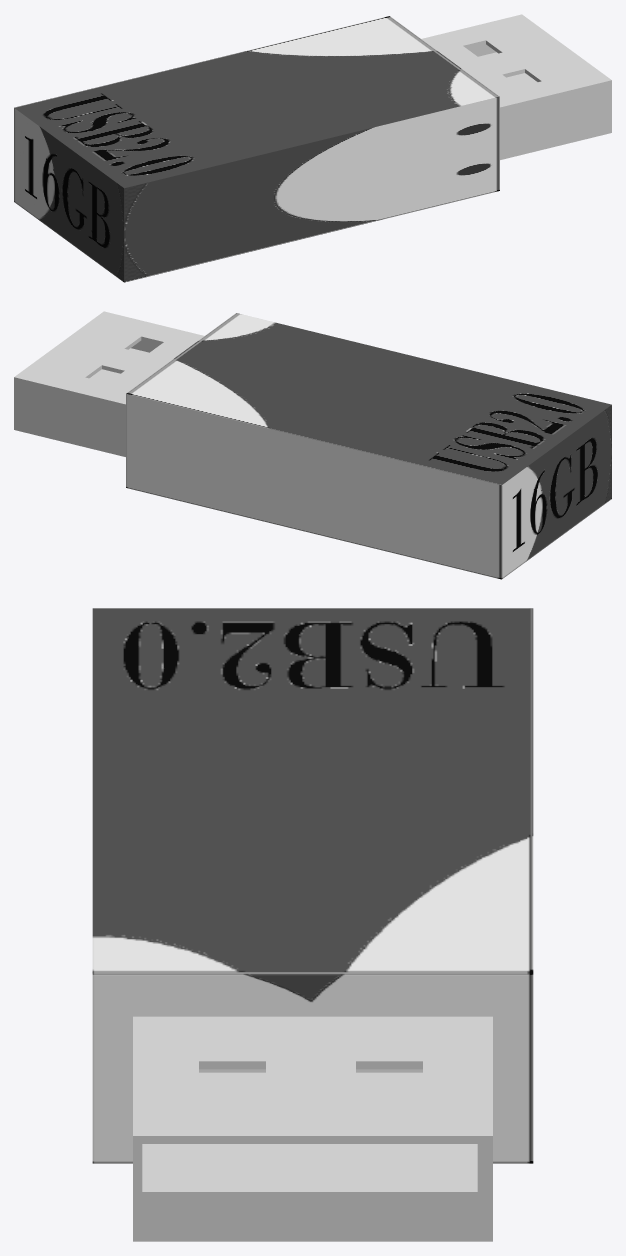
File: USB1.fbx
The picture shows the model from 3 angles, top to bottom: view 1: azimuth 30°, elevation 25°; view 2: azimuth 150°, elevation 25°; view 3: azimuth 270°, elevation 25°; orthographic projection. The views are drawn at different scales.
Parts seen in each view (by area): view 1: Cube.001, Cube; view 2: Cube.001, Cube; view 3: Cube.001, Cube.
Part boxes in pixels (box(x1,y1,x2,y2)): Cube.001: box(14, 16, 499, 282); Cube: box(421, 14, 611, 159); Cube.001: box(126, 313, 611, 579); Cube: box(14, 311, 204, 456); Cube.001: box(92, 608, 533, 1163); Cube: box(133, 1016, 492, 1241).
Bounding box in the file's own units: 652 × 118 × 250.
